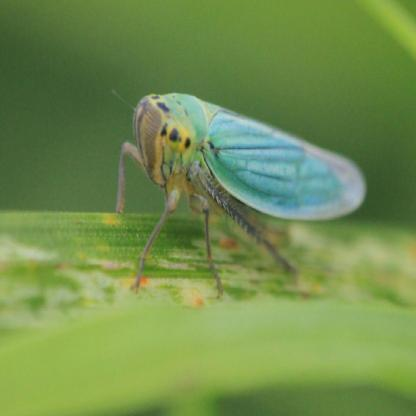Green-Leafhopper: (112, 94, 372, 286)
